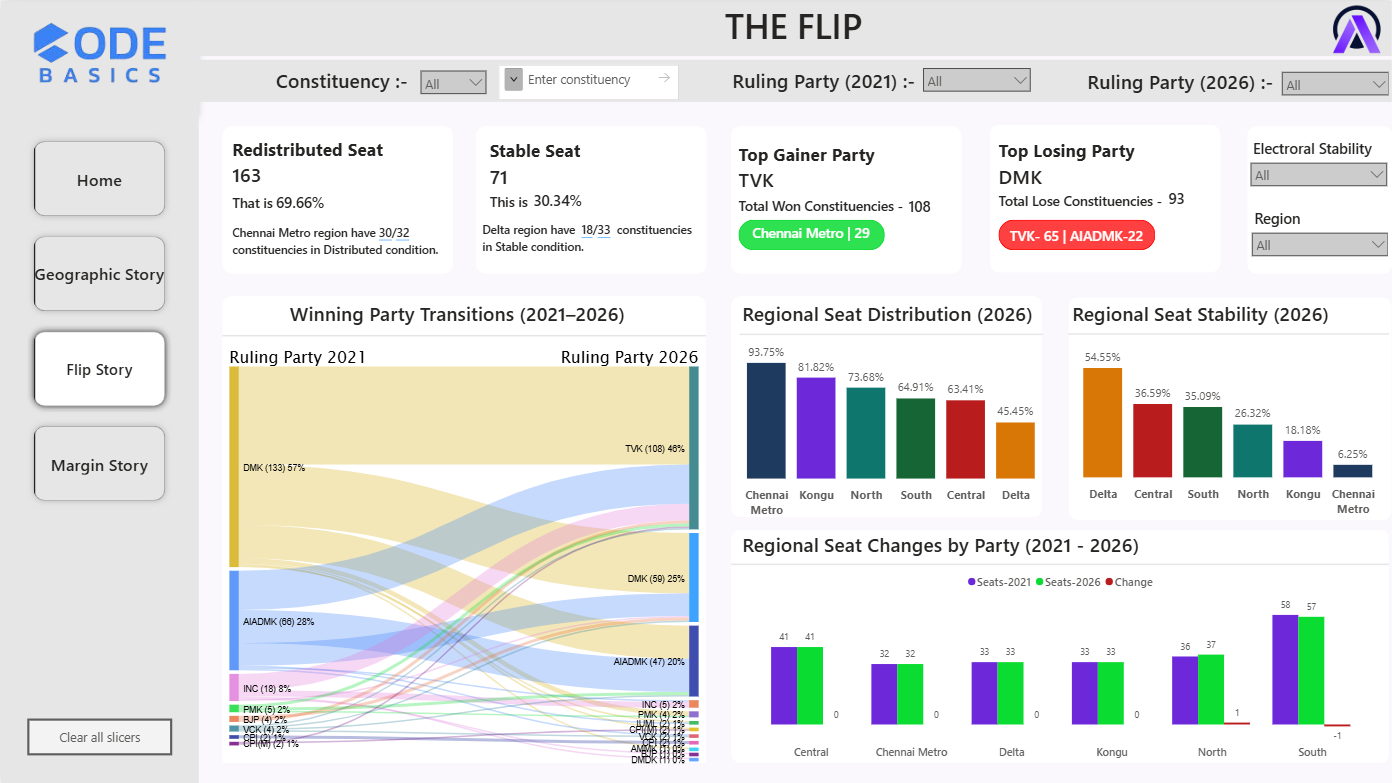

Layout of this report page (visuals, bound fields, positions):
{"tool":"powerbi","page":{"name":"Flip Story","canvas":[1920,1080],"ordinal":2},"visuals":[{"type":"shape","box":[1363.6,170.9,318.2,203.6],"z":0,"group":"g3"},{"type":"shape","box":[1018.2,301.8,201.8,41.8],"z":0,"group":"g1"},{"type":"shape","box":[1018.2,305.4,216.4,41.8],"z":0,"group":"g2"},{"type":"shape","box":[1007.3,729.1,909.1,321.8],"z":0},{"type":"shape","box":[1007.3,172.7,318.2,203.6],"z":1000,"group":"g2"},{"type":"cardVisual","fields":{"Data":["key_measures.Top_Loser_Party"]},"box":[1376.3,174.5,260,101.8],"z":1000,"group":"g3"},{"type":"textbox","title":"chennai metro text","box":[1036.4,307.3,183.6,36.4],"z":1000,"group":"g1"},{"type":"shape","box":[1472.7,409.1,447.3,307.3],"z":1000},{"type":"cardVisual","fields":{"Data":["key_measures.Top_Gainer_Party"]},"box":[1018.2,180,260,100],"z":2000,"group":"g2"},{"type":"cardVisual","fields":{"Data":["key_measures.Total_lose_constituencies"]},"box":[1610.9,250.9,49.1,40],"z":2000,"group":"g3"},{"type":"shape","box":[1007.3,407.3,429.1,305.5],"z":2000},{"type":"textbox","box":[1376.3,261.8,260,43.6],"z":3000,"group":"g3"},{"type":"textbox","box":[1018.2,269.1,234.5,38.2],"z":3000,"group":"g2"},{"type":"shape","box":[305.5,407.3,667.3,643.6],"z":3000},{"type":"shape","box":[654.5,172.7,318.2,203.6],"z":4000},{"type":"cardVisual","fields":{"Data":["key_measures.Top_Gainer_votes"]},"box":[1252.8,261.8,49.1,40],"z":4000,"group":"g2"},{"type":"shape","box":[1376.3,301.8,216.4,41.8],"z":4000,"group":"g3"},{"type":"cardVisual","fields":{"Data":["key_measures.stable_seats"]},"box":[10,0,250,150],"z":5000},{"type":"group","id":"g1","title":"chenaiMetro 29","box":[1018.2,301.8,201.8,41.8],"z":5000,"group":"g2"},{"type":"textbox","box":[1390.9,310.9,201.8,32.7],"z":5000,"group":"g3"},{"type":"cardVisual","fields":{"Data":["key_measures.stable_rate"]},"box":[735,252,92.7,43.6],"z":6000},{"type":"columnChart","fields":{"Category":["win_comparison.region"],"Y":["key_measures.region_flip%"]},"box":[990.9,463.6,463.6,250.9],"z":7000},{"type":"sankey_diagram_visiochart_8c1a6a012eec472d899f79bf867da012","fields":{"category":["win_comparison.party_2021","win_comparison.party_2026"],"measure":["CountNonNull(win_comparison.ac_number)"]},"box":[305.5,465.5,667.3,585.5],"z":8000},{"type":"columnChart","fields":{"Category":["win_comparison.region"],"Y":["key_measures.region_stable%"]},"box":[1454.5,465.5,465.5,252.7],"z":9000},{"type":"shape","box":[0,0,272.7,1080],"z":10000},{"type":"shape","box":[272.7,81.8,1647.3,58.2],"z":11000},{"type":"shape","box":[305.5,172.7,318.2,203.6],"z":12000},{"type":"shape","box":[272.7,0,1647.3,76.4],"z":13000},{"type":"textbox","box":[998.2,0,198.2,76.4],"z":14000},{"type":"cardVisual","fields":{"Data":["key_measures.changed_seats"]},"box":[319,172,260,100],"z":15000},{"type":"cardVisual","fields":{"Data":["key_measures.stable_seats"]},"box":[674.5,174.5,260,100],"z":16000},{"type":"textbox","box":[318.2,266,61.8,34.5],"z":17000},{"type":"cardVisual","fields":{"Data":["key_measures.retention_rate"]},"box":[380,252,85.5,50.9],"z":18000},{"type":"textbox","box":[674.5,263,70.9,29.1],"z":19000},{"type":"shape","box":[305.5,452.7,667.3,16.4],"z":20000},{"type":"textbox","box":[398.2,412.7,485.5,56.4],"z":21000},{"type":"shape","box":[1472.7,447.3,443.6,25.5],"z":22000},{"type":"textbox","box":[1021.8,412.7,425.5,56.4],"z":23000},{"type":"textbox","box":[1478.2,412.7,365.5,56.4],"z":24000},{"type":"shape","box":[1018.2,452.7,418.2,12.7],"z":25000},{"type":"clusteredColumnChart","fields":{"Category":["geo_compare.region","geo_compare.winner_party"],"Y":["Sum(geo_compare.seats_2021)","Sum(geo_compare.seats_2026)","Sum(geo_compare.seat_change)"]},"box":[1007.3,783.6,912.7,267.3],"z":26000},{"type":"shape","box":[1007.3,770.9,909.1,12.7],"z":27000},{"type":"textbox","box":[1021.8,730.9,696.4,56.4],"z":28000},{"type":"textbox","box":[663.6,303.6,296.4,60],"z":29000},{"type":"group","id":"g2","title":"Top_Gainer","box":[1007.3,172.7,318.2,203.6],"z":30000},{"type":"group","id":"g3","title":"Top_Loser","box":[1363.6,170.9,318.2,203.6],"z":31000},{"type":"textbox","box":[318.2,307.3,296.4,76.4],"z":32000},{"type":"image","box":[0,9.1,272.7,125.5],"z":33000},{"type":"image","box":[1823.6,0,96.4,76.4],"z":34000},{"type":"actionButton","box":[36.4,989.1,200,50.9],"z":35000},{"type":"pageNavigator","box":[36.4,183.6,200,514.5],"z":36000},{"type":"textbox","box":[380,90.9,198.2,49.1],"z":37000},{"type":"slicer","fields":{"Values":["win_comparison.ac_number"]},"box":[574.5,90.9,100,49.1],"z":38000},{"type":"textSlicer","fields":{"Values":["win_comparison.constituency"]},"box":[685.5,87.3,249.1,49.1],"z":39000},{"type":"textbox","box":[1009.4,90.9,258.2,45.5],"z":40000},{"type":"slicer","fields":{"Values":["win_comparison.party_2021"]},"box":[1267.6,87.3,158.2,49.1],"z":41000},{"type":"textbox","box":[1498,92.7,258.2,47.3],"z":42000},{"type":"slicer","fields":{"Values":["win_comparison.party_2026"]},"box":[1761.8,92.7,158.2,49.1],"z":43000},{"type":"shape","box":[1718.2,172.7,201.8,203.6],"z":44000},{"type":"slicer","fields":{"Values":["win_comparison.electroral_stability"]},"box":[1718.2,189.1,198.2,72.7],"z":45000},{"type":"slicer","fields":{"Values":["win_comparison.region"]},"box":[1720,285.5,198.2,72.7],"z":46000}]}

Visuals, with their boxes in screenshot pixels (x1, y1, x2, y2), scaled from the page's 1920x1080 canvas onto the 1392x783 screenshot:
shape: locate(989, 124, 1219, 272)
shape: locate(738, 219, 884, 249)
shape: locate(738, 221, 895, 252)
shape: locate(730, 529, 1389, 762)
shape: locate(730, 125, 961, 273)
cardVisual - key_measures.Top_Loser_Party: locate(998, 127, 1186, 200)
"chennai metro text" textbox: locate(751, 223, 884, 249)
shape: locate(1068, 297, 1391, 519)
cardVisual - key_measures.Top_Gainer_Party: locate(738, 130, 927, 203)
cardVisual - key_measures.Total_lose_constituencies: locate(1168, 182, 1204, 211)
shape: locate(730, 295, 1041, 517)
textbox: locate(998, 190, 1186, 221)
textbox: locate(738, 195, 908, 223)
shape: locate(221, 295, 705, 762)
shape: locate(475, 125, 705, 273)
cardVisual - key_measures.Top_Gainer_votes: locate(908, 190, 944, 219)
shape: locate(998, 219, 1155, 249)
cardVisual - key_measures.stable_seats: locate(7, 0, 188, 109)
"chenaiMetro 29" group: locate(738, 219, 884, 249)
textbox: locate(1008, 225, 1155, 249)
cardVisual - key_measures.stable_rate: locate(533, 183, 600, 214)
columnChart - win_comparison.region x key_measures.region_flip%: locate(718, 336, 1055, 518)
sankey_diagram_visiochart_8c1a6a012eec472d899f79bf867da012 - win_comparison.party_2021 x win_comparison.party_2026: locate(221, 337, 705, 762)
columnChart - win_comparison.region x key_measures.region_stable%: locate(1055, 337, 1391, 521)
shape: locate(0, 0, 198, 782)
shape: locate(198, 59, 1391, 102)
shape: locate(221, 125, 452, 273)
shape: locate(198, 0, 1391, 55)
textbox: locate(724, 0, 867, 55)
cardVisual - key_measures.changed_seats: locate(231, 125, 420, 197)
cardVisual - key_measures.stable_seats: locate(489, 127, 678, 199)
textbox: locate(231, 193, 276, 218)
cardVisual - key_measures.retention_rate: locate(276, 183, 337, 220)
textbox: locate(489, 191, 540, 212)
shape: locate(221, 328, 705, 340)
textbox: locate(289, 299, 641, 340)
shape: locate(1068, 324, 1389, 343)
textbox: locate(741, 299, 1049, 340)
textbox: locate(1072, 299, 1337, 340)
shape: locate(738, 328, 1041, 337)
clusteredColumnChart - geo_compare.region x geo_compare.winner_party: locate(730, 568, 1391, 762)
shape: locate(730, 559, 1389, 568)
textbox: locate(741, 530, 1246, 571)
textbox: locate(481, 220, 696, 264)
"Top_Gainer" group: locate(730, 125, 961, 273)
"Top_Loser" group: locate(989, 124, 1219, 272)
textbox: locate(231, 223, 446, 278)
image: locate(0, 7, 198, 98)
image: locate(1322, 0, 1391, 55)
actionButton: locate(26, 717, 171, 754)
pageNavigator: locate(26, 133, 171, 506)
textbox: locate(276, 66, 419, 102)
slicer - win_comparison.ac_number: locate(417, 66, 489, 102)
textSlicer - win_comparison.constituency: locate(497, 63, 678, 99)
textbox: locate(732, 66, 919, 99)
slicer - win_comparison.party_2021: locate(919, 63, 1034, 99)
textbox: locate(1086, 67, 1273, 102)
slicer - win_comparison.party_2026: locate(1277, 67, 1391, 103)
shape: locate(1246, 125, 1391, 273)
slicer - win_comparison.electroral_stability: locate(1246, 137, 1389, 190)
slicer - win_comparison.region: locate(1247, 207, 1391, 260)
